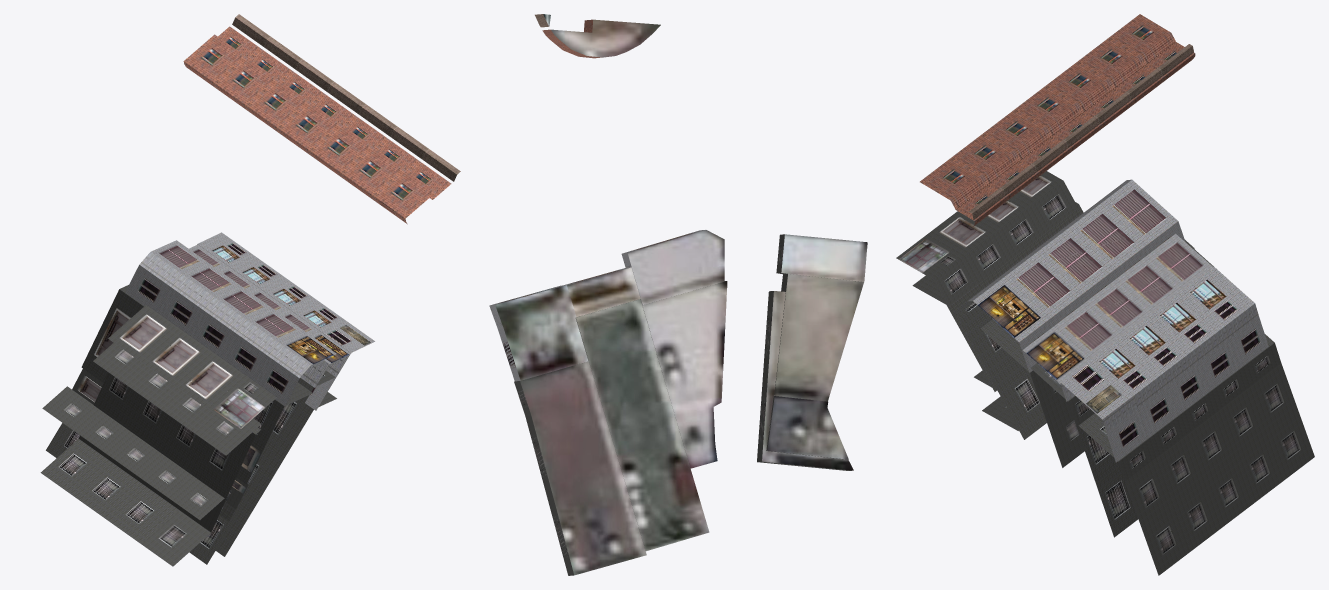
3 views of the same model, side by side, from view 1: azimuth 30°, elevation 25°; view 2: azimuth 150°, elevation 25°; view 3: azimuth 270°, elevation 25° (orthographic). The views are drawn at different scales.
Size of the model in its own units: 35.01 by 47.43 by 33.77.
Materials: 40 (40 with a texture image).
